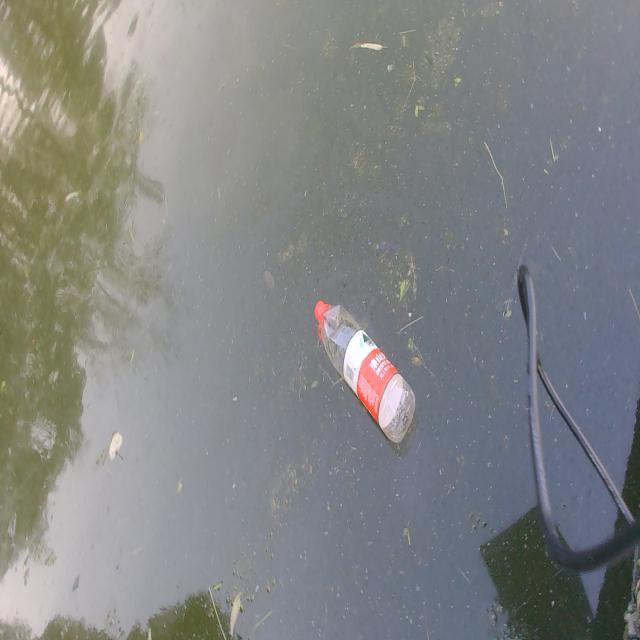bottle: (298, 266, 432, 461)
